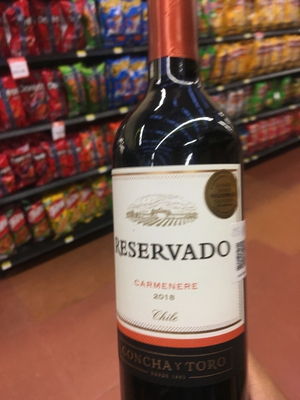reservado carmenere: (104, 9, 249, 400)
